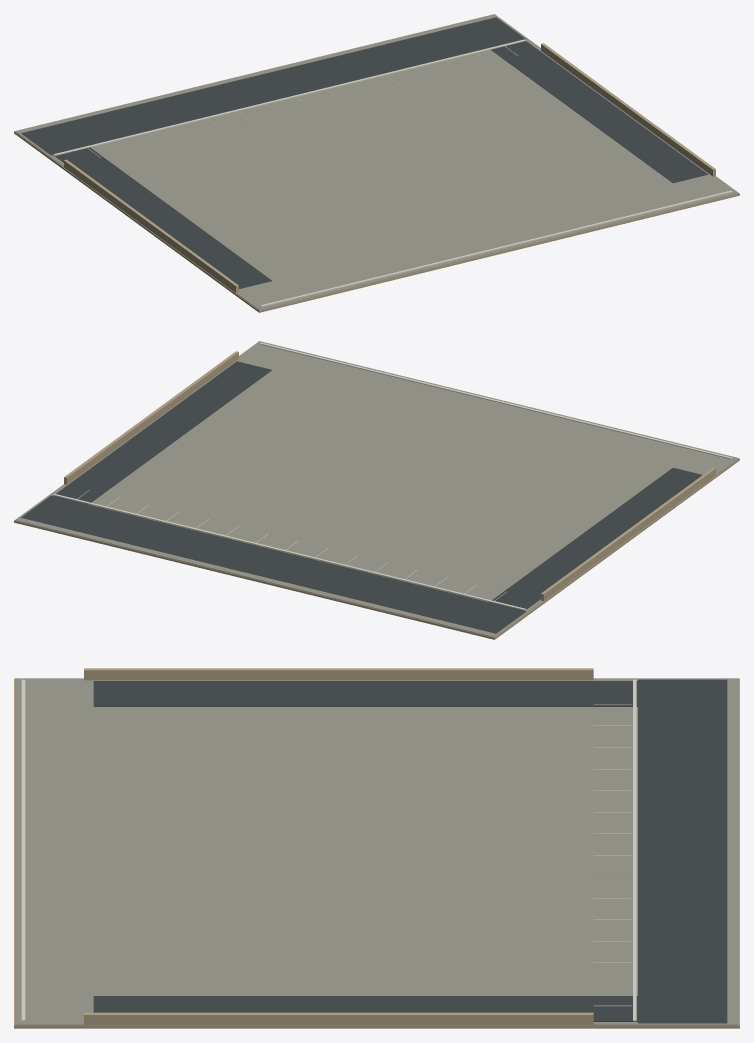
The model's file is KOL_T1_SONAR__Foundation.fbx.
3 renders of one model, top to bottom at view 1: azimuth 30°, elevation 25°; view 2: azimuth 150°, elevation 25°; view 3: azimuth 270°, elevation 25°, orthographic. The views are drawn at different scales.
Parts seen in each view (by area): view 1: KOL_T1_SONAR__Foundation__KOL_T1_Paving, KOL_T1_SONAR__Foundation__KOL_T1_Asphalt, KOL_T1_SONAR__Foundation__KOL_T1_Stone, KOL_T1_SONAR__Foundation__KOL_T1_Pearl; view 2: KOL_T1_SONAR__Foundation__KOL_T1_Paving, KOL_T1_SONAR__Foundation__KOL_T1_Asphalt, KOL_T1_SONAR__Foundation__KOL_T1_Stone, KOL_T1_SONAR__Foundation__KOL_T1_Pearl; view 3: KOL_T1_SONAR__Foundation__KOL_T1_Paving, KOL_T1_SONAR__Foundation__KOL_T1_Asphalt, KOL_T1_SONAR__Foundation__KOL_T1_Stone, KOL_T1_SONAR__Foundation__KOL_T1_Pearl.
Part boxes in pixels (x1,y1,x2,y2): KOL_T1_SONAR__Foundation__KOL_T1_Paving: [15, 14, 738, 310]; KOL_T1_SONAR__Foundation__KOL_T1_Asphalt: [21, 17, 707, 288]; KOL_T1_SONAR__Foundation__KOL_T1_Stone: [14, 43, 739, 312]; KOL_T1_SONAR__Foundation__KOL_T1_Pearl: [53, 39, 732, 307]; KOL_T1_SONAR__Foundation__KOL_T1_Paving: [15, 341, 738, 637]; KOL_T1_SONAR__Foundation__KOL_T1_Asphalt: [21, 361, 702, 633]; KOL_T1_SONAR__Foundation__KOL_T1_Stone: [14, 351, 739, 639]; KOL_T1_SONAR__Foundation__KOL_T1_Pearl: [53, 342, 732, 610]; KOL_T1_SONAR__Foundation__KOL_T1_Paving: [15, 678, 738, 1025]; KOL_T1_SONAR__Foundation__KOL_T1_Asphalt: [93, 679, 727, 1023]; KOL_T1_SONAR__Foundation__KOL_T1_Stone: [14, 668, 739, 1028]; KOL_T1_SONAR__Foundation__KOL_T1_Pearl: [21, 679, 636, 1021].
Bounding box in the file's own units: 258 × 4.75 × 228.
